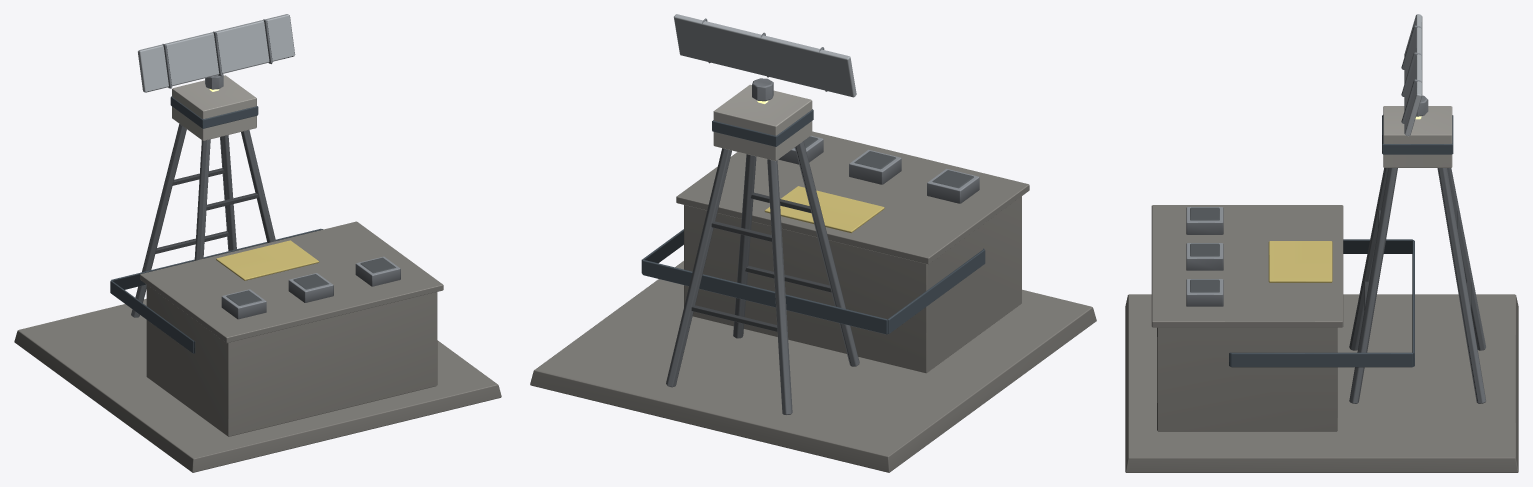
Rendered from radar_center.glb.
The picture shows the model from 3 angles, left to right: view 1: azimuth 30°, elevation 25°; view 2: azimuth 150°, elevation 25°; view 3: azimuth 270°, elevation 25°; orthographic projection. The views are drawn at different scales.
Visible parts, largest first — view 1: Body, Radar; view 2: Body, Radar; view 3: Body, Radar.
Boxes of the visible parts, x1,y1,x2,y2 form: Body: [14, 75, 501, 472]; Radar: [138, 14, 295, 92]; Body: [530, 84, 1096, 472]; Radar: [673, 14, 856, 101]; Body: [1125, 106, 1518, 472]; Radar: [1401, 14, 1428, 136].
Size of the model in its own units: 7.39 by 7.01 by 7.39.
